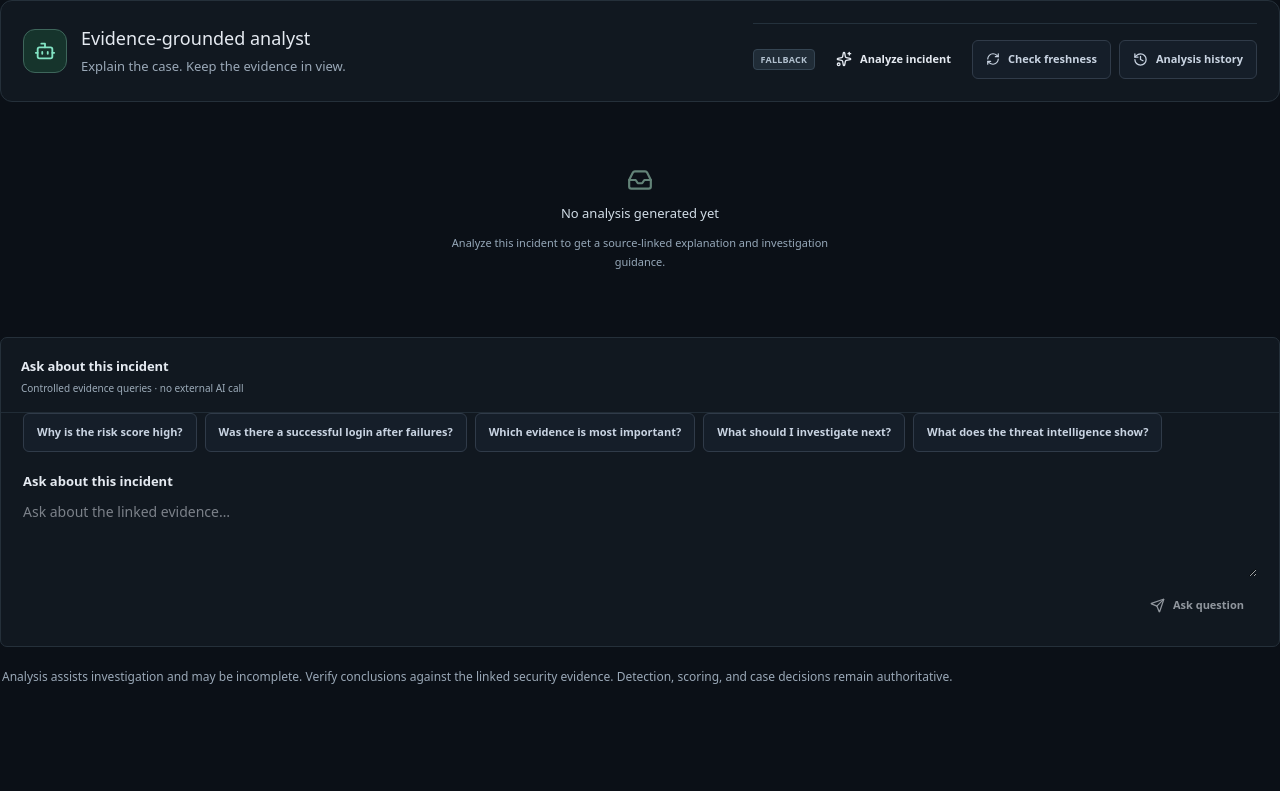
it: generates labelled fallback and opens original evidence in a drawer
Check: the text "No analysis generated yet" is shown, box [561, 204, 719, 223]
Click the button "Analyze incident" at (894, 59), box [823, 41, 964, 78]
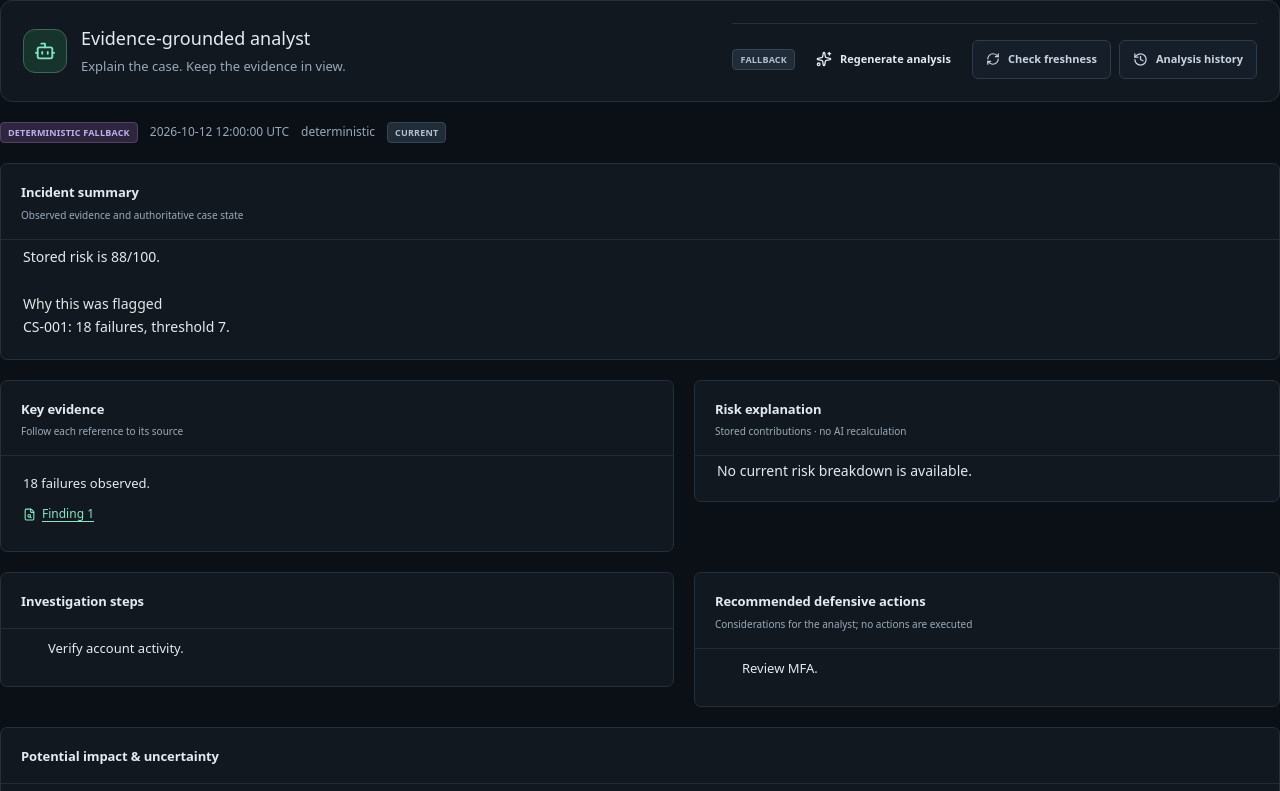
Check: the text "Stored risk is 88/100." is shown, box [23, 246, 160, 266]
Check: the text "DETERMINISTIC FALLBACK" is shown, box [0, 122, 138, 143]
Click the button with aria-label "View evidence FIND-1" at (58, 514), box [23, 505, 94, 523]
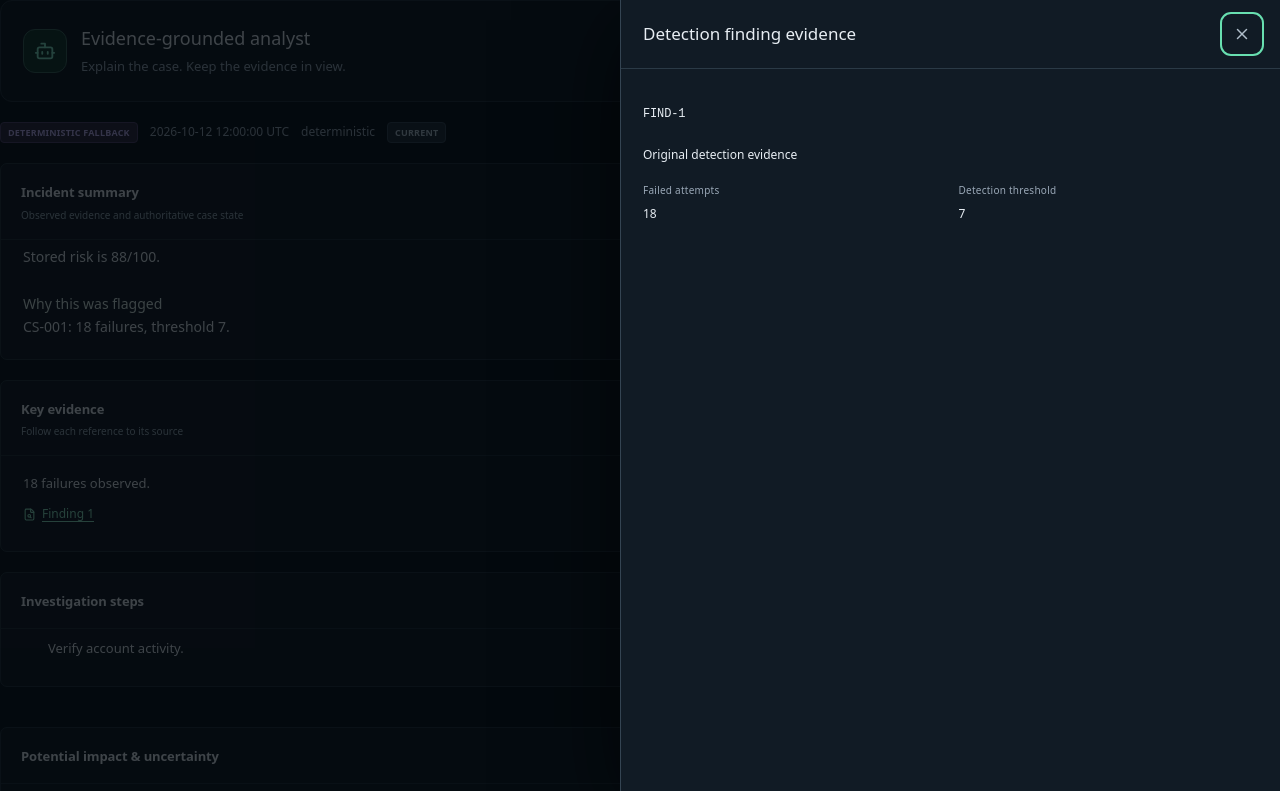
Check: the text "Original detection evidence" is shown, box [643, 146, 797, 163]
